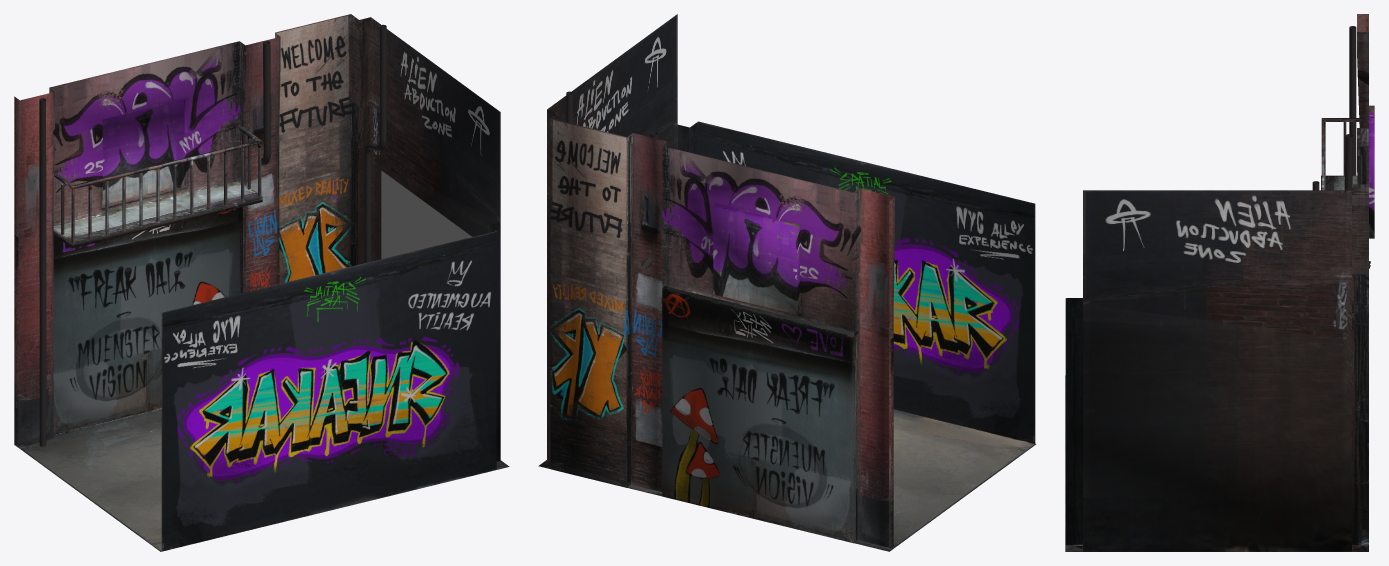
Rendered from Alley_v3_1785187370831.glb.
The picture shows the model from 3 angles, left to right: view 1: azimuth 30°, elevation 25°; view 2: azimuth 150°, elevation 25°; view 3: azimuth 270°, elevation 25°; orthographic projection. The views are drawn at different scales.
Visible parts, largest first — view 1: Alley.217; view 2: Alley.217; view 3: Alley.217.
Part boxes in pixels (x1,y1,x2,y2): Alley.217: (14,14,509,551); Alley.217: (538,14,1036,551); Alley.217: (1065,14,1374,551).
Size of the model in its own units: 5.41 by 5.27 by 4.01.
6 materials, 2 textured.
